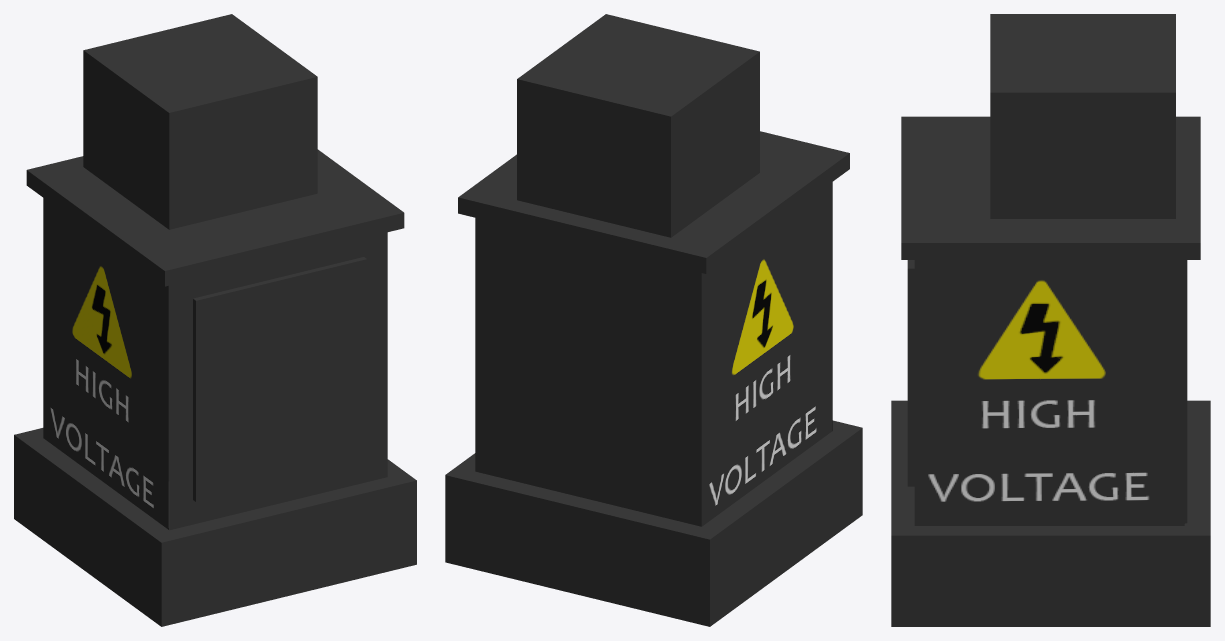
The model's file is PowerGenerator1.fbx.
The picture shows the model from 3 angles, left to right: view 1: azimuth 30°, elevation 25°; view 2: azimuth 150°, elevation 25°; view 3: azimuth 270°, elevation 25°; orthographic projection. The views are drawn at different scales.
Parts seen in each view (by area): view 1: Cube; view 2: Cube; view 3: Cube.
Part boxes in pixels (box(x1,y1,x2,y2)): Cube: box(14, 14, 416, 626); Cube: box(445, 14, 862, 626); Cube: box(891, 14, 1210, 626).
Size of the model in its own units: 234 by 409 by 234.
